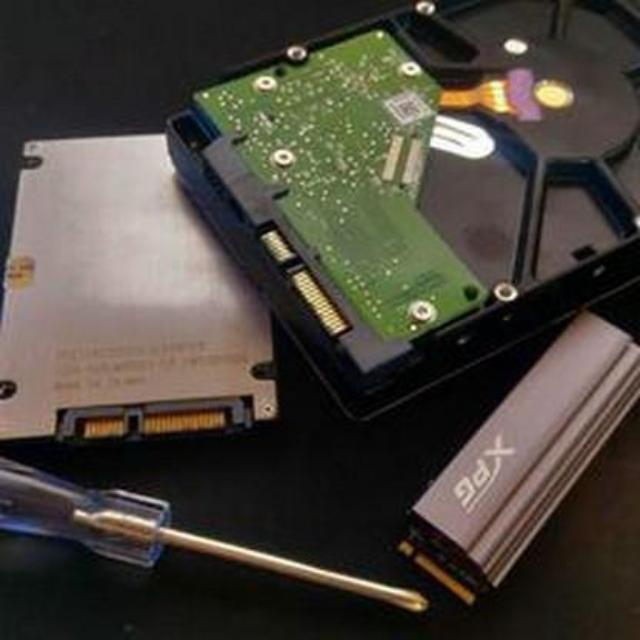DISK: (194, 0, 640, 403), (0, 122, 280, 446)
